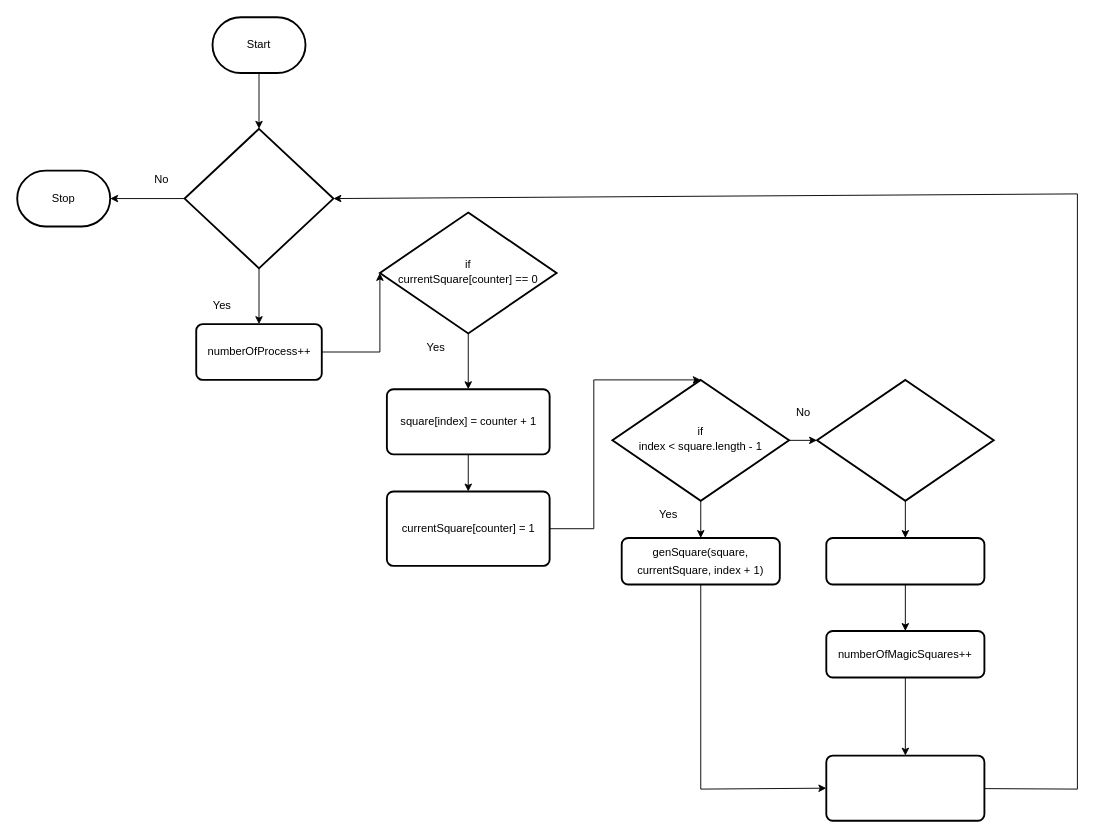
This 1101x837 diagram has some shape labels left out. Here are the shapes that lost their labels. From the top down, the centre of each, then its label:
At (x=258, y=198): "for counter = 0 counter < square.length counter++".
At (x=905, y=440): "else if (isMagic(square) == true)".
At (x=905, y=561): "printMagicSquare(square)".
At (x=905, y=787): "currentSquare[counter] = 0".
